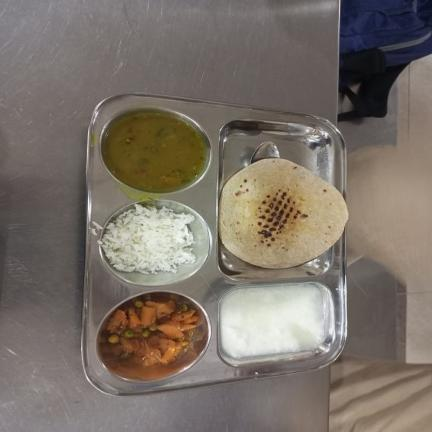Aalu Ki Sabji: (104, 294, 202, 367)
Dahi: (218, 285, 325, 360)
Dal: (104, 114, 203, 191)
Plate: (81, 93, 347, 397)
Rice: (98, 205, 197, 276)
Roti: (219, 159, 351, 269)
